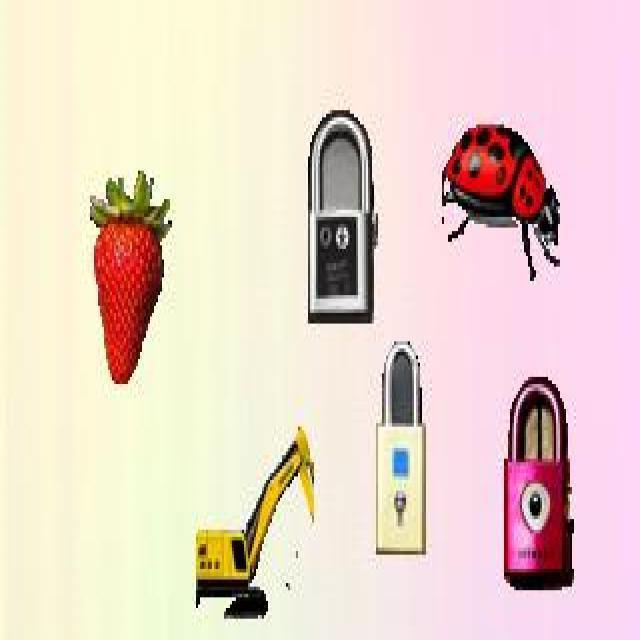Other Objects: (441, 121, 561, 281), (307, 108, 380, 326), (504, 376, 576, 592), (375, 337, 427, 558)
